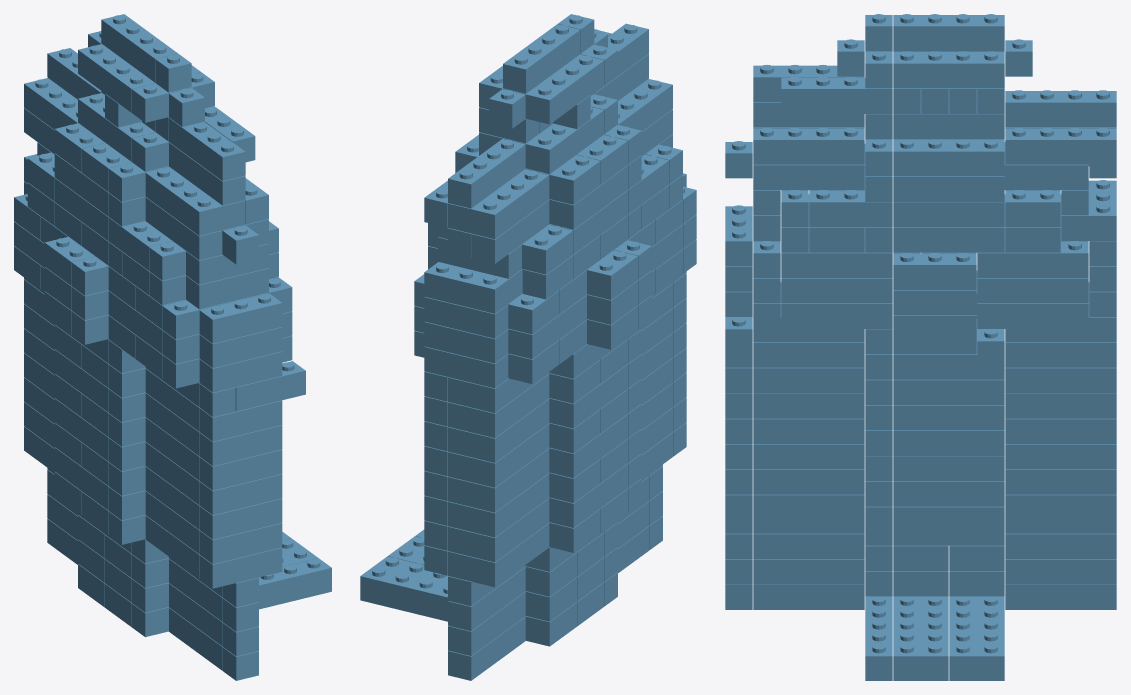
The model's file is 169_guitar_L4.glb.
3 views of the same model, side by side, from view 1: azimuth 30°, elevation 25°; view 2: azimuth 150°, elevation 25°; view 3: azimuth 270°, elevation 25° (orthographic). The views are drawn at different scales.
Bounding box in the file's own units: 9.98 × 23.13 × 13.98.
